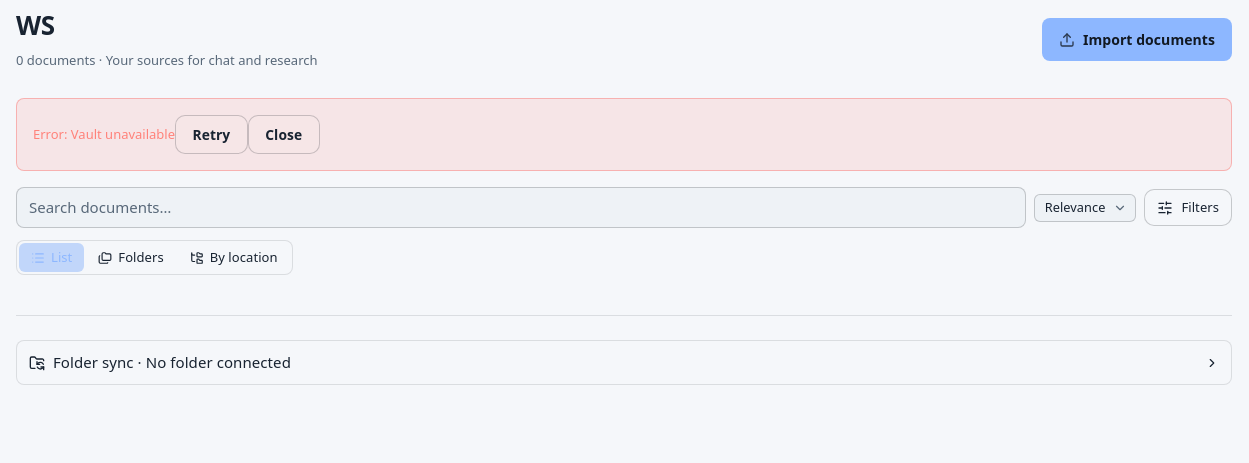
LibraryView search integration › shows a failed library load with retry instead of the empty library prompt
Expected: the message shows "Vault unavailable", x1=33 y1=126 x2=175 y2=144
Click the button "Retry" at x=211, y=135, box x1=175 y1=115 x2=248 y2=154
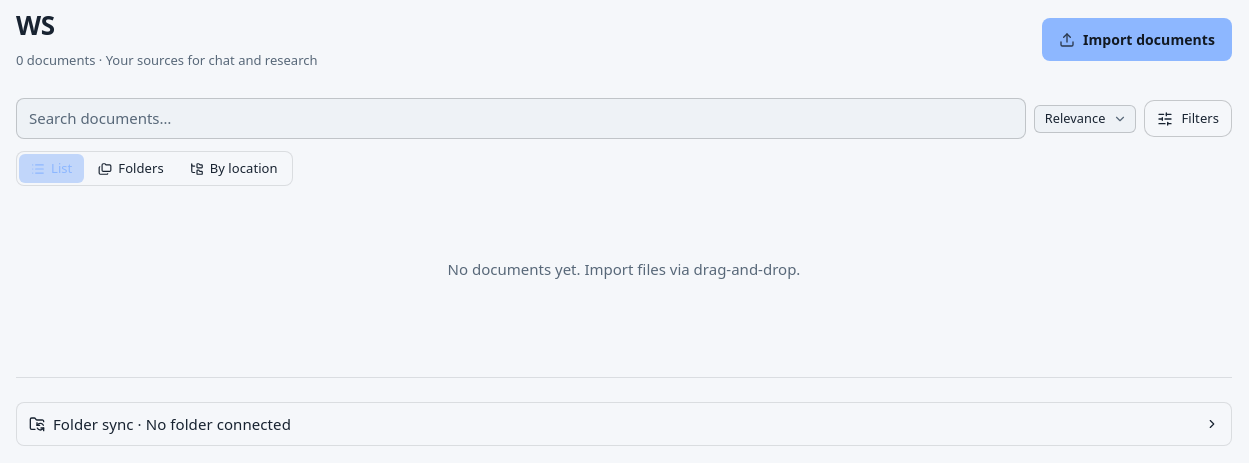
Result: the message "Error: Vault unavailable Retry Close" is gone
